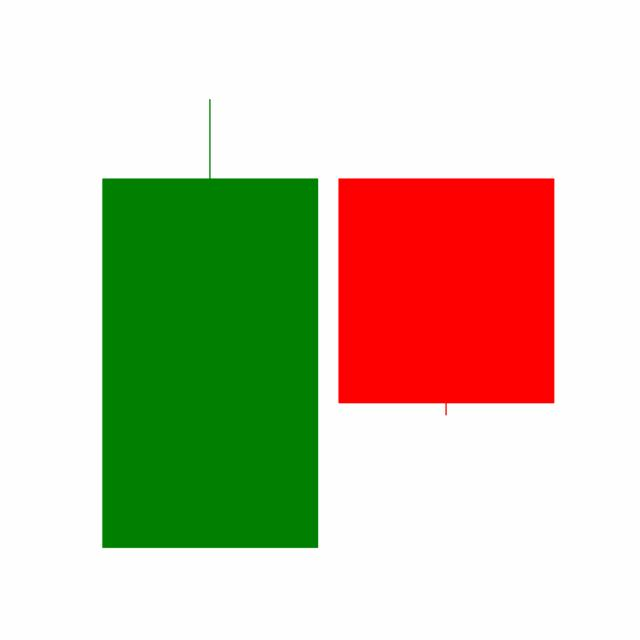Marubozu: (327, 175, 565, 418)
